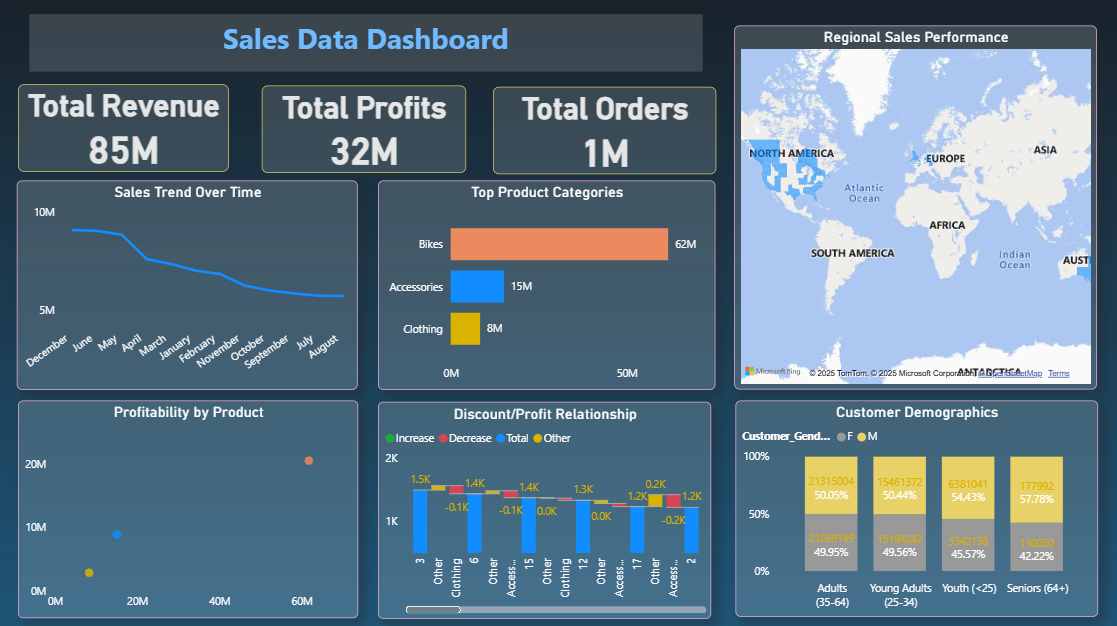

The page's visual inventory and layout, read from the dashboard file:
{"tool":"powerbi","page":{"name":"Page 1","canvas":[1280,720],"ordinal":0},"visuals":[{"type":"lineChart","title":"Sales Trend Over Time","fields":{"Y":["Sum(sales_data.Revenue)"],"Category":["sales_data.Month"]},"box":[21.7,208.7,389.9,239.1],"z":0},{"type":"clusteredBarChart","title":"Top Product Categories","fields":{"Category":["sales_data.Product_Category"],"Y":["Sum(sales_data.Revenue)"]},"box":[434.8,208.7,385.5,239.1],"z":1000},{"type":"filledMap","title":"Regional Sales Performance","fields":{"Category":["sales_data.State"]},"box":[842,31.9,414.5,415.9],"z":2000},{"type":"scatterChart","title":"Profitability by Product","fields":{"Category":["sales_data.Product_Category"],"X":["Sum(sales_data.Revenue)"],"Y":["Sum(sales_data.Profit)"]},"box":[23.4,459.4,389.1,248.4],"z":3000},{"type":"hundredPercentStackedColumnChart","title":"Customer Demographics","fields":{"Category":["sales_data.Age_Group"],"Y":["Sum(sales_data.Revenue)"],"Series":["sales_data.Customer_Gender"]},"box":[842.2,459.4,414.1,246.9],"z":4000},{"type":"waterfallChart","title":"Discount/Profit Relationship","fields":{"Breakdown":["sales_data.Product_Category"],"Y":["CountNonNull(sales_data.State)"],"Category":["sales_data.Profit"]},"box":[434.8,460.9,381.2,247.8],"z":4001},{"type":"card","title":"Total Revenue","fields":{"Values":["Sum(sales_data.Revenue)"]},"box":[23.2,98.6,240.6,100],"z":4002},{"type":"card","title":"Total Profits","fields":{"Values":["Sum(sales_data.Profit)"]},"box":[301.4,100,233.3,100],"z":4003},{"type":"card","title":"Total Orders","fields":{"Values":["Sum(sales_data.Order_Quantity)"]},"box":[565.2,101.4,255.1,100],"z":4004},{"type":"textbox","box":[36.2,18.8,769.6,65.2],"z":4005}]}

Visuals, with their boxes in screenshot pixels (x1, y1, x2, y2), scaled from the page's 1280x720 canvas onto the 1117x626 screenshot:
"Sales Trend Over Time" lineChart: 19:181:359:389
"Top Product Categories" clusteredBarChart: 379:181:716:389
"Regional Sales Performance" filledMap: 735:28:1096:389
"Profitability by Product" scatterChart: 20:399:360:615
"Customer Demographics" hundredPercentStackedColumnChart: 735:399:1096:614
"Discount/Profit Relationship" waterfallChart: 379:401:712:616
"Total Revenue" card: 20:86:230:173
"Total Profits" card: 263:87:467:174
"Total Orders" card: 493:88:716:175
textbox: 32:16:703:73
